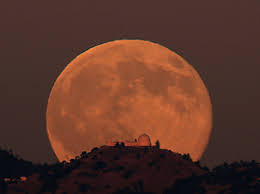moon: (46, 38, 214, 167)
